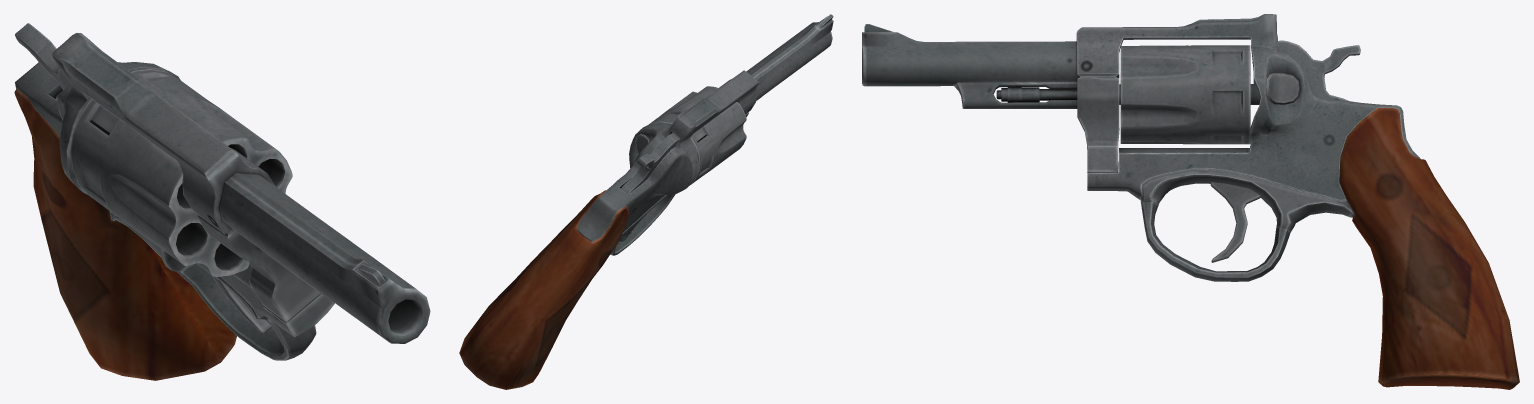
File: HandGun.obj
The picture shows the model from 3 angles, left to right: view 1: azimuth 30°, elevation 25°; view 2: azimuth 150°, elevation 25°; view 3: azimuth 270°, elevation 25°; orthographic projection. The views are drawn at different scales.
Visible parts, largest first — view 1: Handgun; view 2: Handgun; view 3: Handgun.
Part boxes in pixels (x1,y1,x2,y2): Handgun: (14, 23, 430, 380); Handgun: (459, 14, 833, 389); Handgun: (862, 14, 1519, 389).
Size of the model in its own units: 0.1706 by 0.2508 by 0.4696.
Materials: 1 (1 with a texture image).
